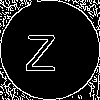Z: (25, 25, 56, 71)
